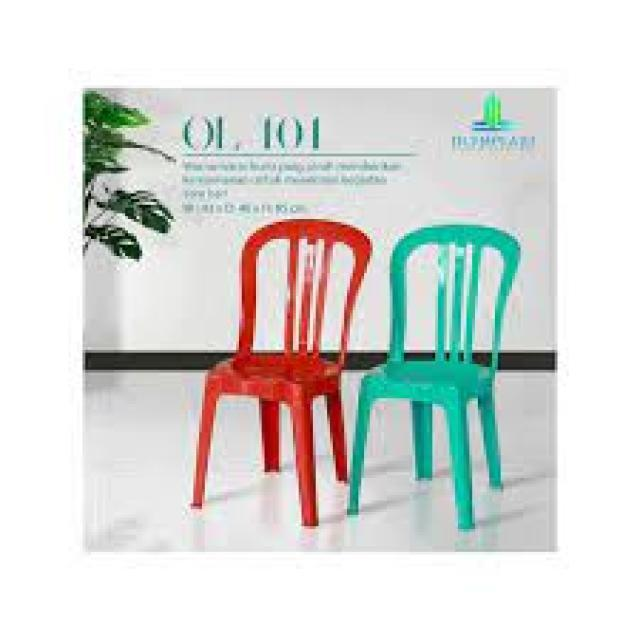chair: (188, 213, 376, 528), (344, 219, 520, 534)
